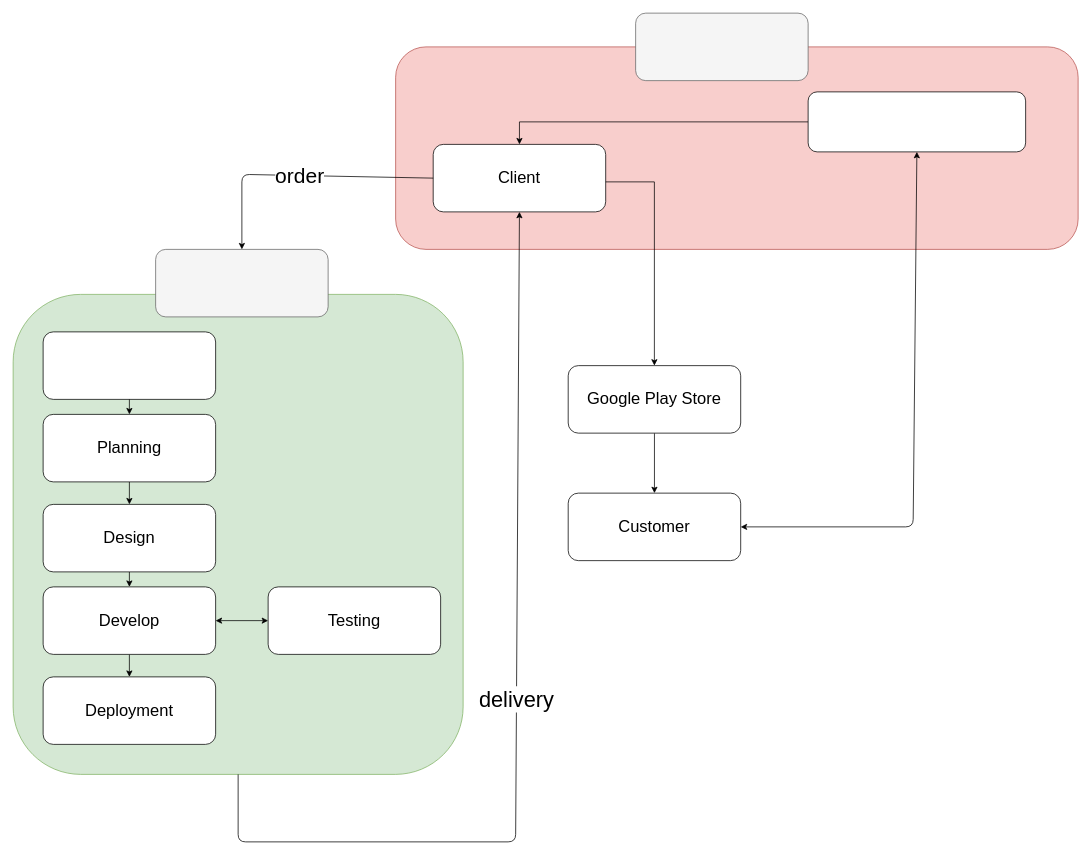
This 1091x861 diagram has some shape labels left out. Here are the shapes that lost their labels. From the top down, the centre of each, then its label:
pixel 721 46: BSPI
pixel 916 121: Support Center
pixel 241 283: Temporary Software Company Ltd.
pixel 129 365: Requirement
